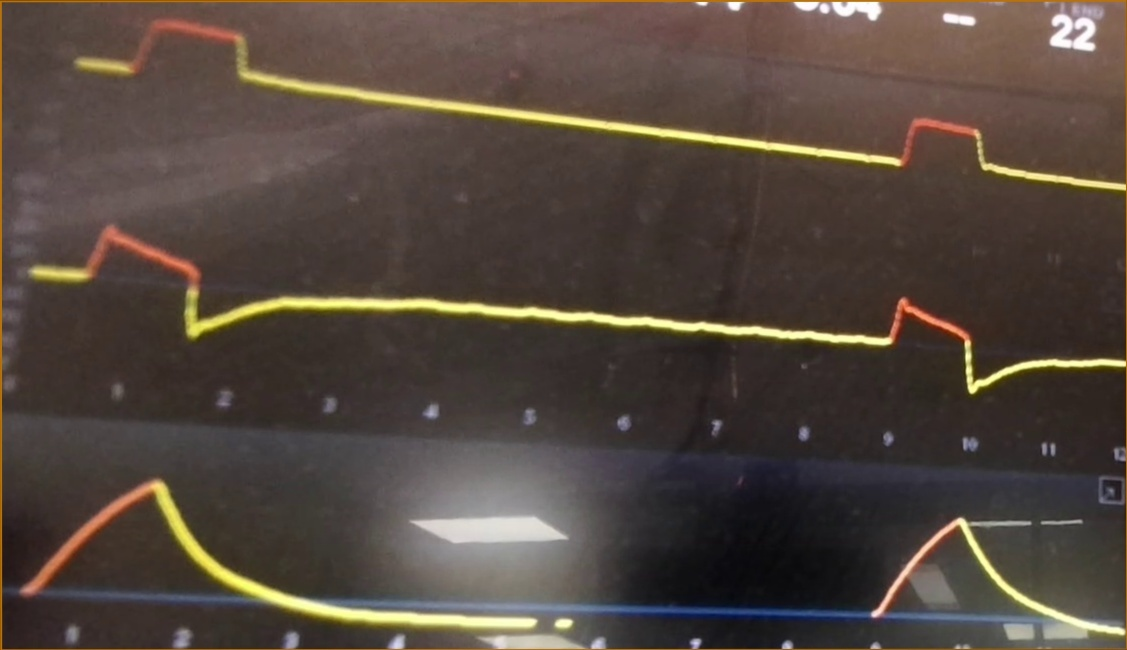Normal Flow: (29, 216, 1127, 393)
Normal Volume: (17, 470, 1123, 634)
